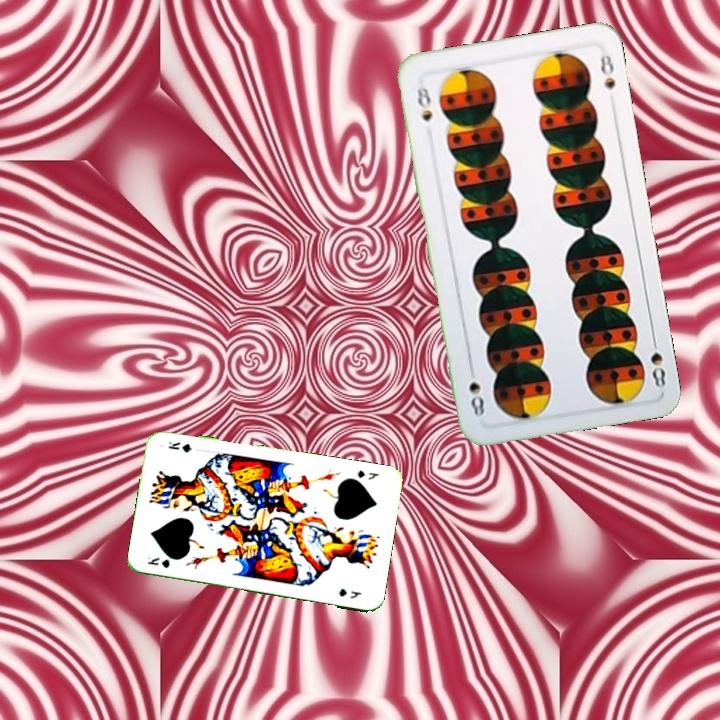GK: (143, 553, 174, 570), (353, 466, 381, 482)
S8: (646, 331, 668, 391), (413, 81, 435, 124)
